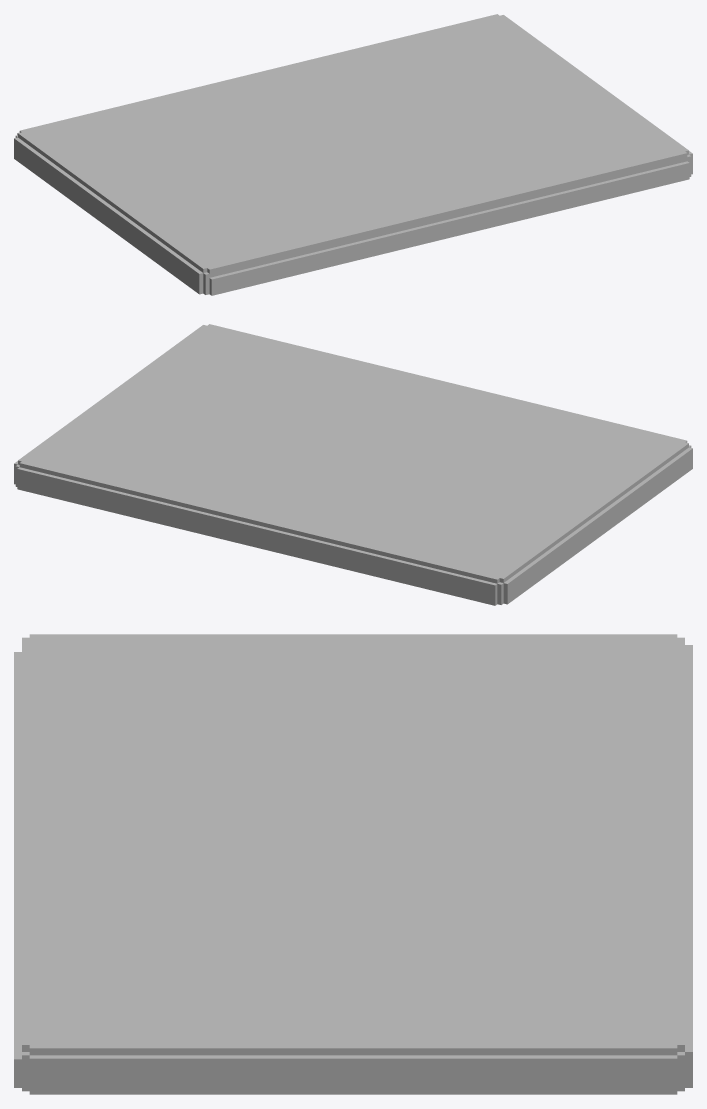
The model's file is NoteBook1.fbx.
3 renders of one model, top to bottom at view 1: azimuth 30°, elevation 25°; view 2: azimuth 150°, elevation 25°; view 3: azimuth 270°, elevation 25°, orthographic. The views are drawn at different scales.
Visible parts, largest first — view 1: NoteBook1; view 2: NoteBook1; view 3: NoteBook1.
Part boxes in pixels (x1,y1,x2,y2): NoteBook1: (14, 14, 692, 295); NoteBook1: (14, 324, 692, 605); NoteBook1: (14, 634, 692, 1094).
Bounding box in the file's own units: 12.6 × 0.6 × 8.6.
